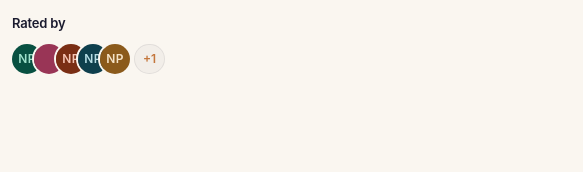
Test: RatedByRow — taste-match byline chip › shows a match chip only on raters whose match clears the threshold
Click the button named "show all" at (150, 59), box left=134, top=44, right=165, bottom=74
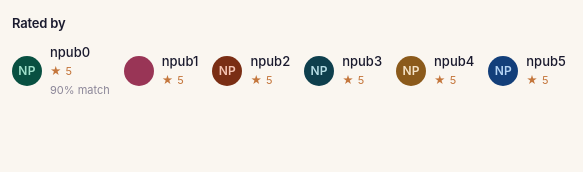
Expected: the text "90% match" is shown once, left=50, top=82, right=110, bottom=99
